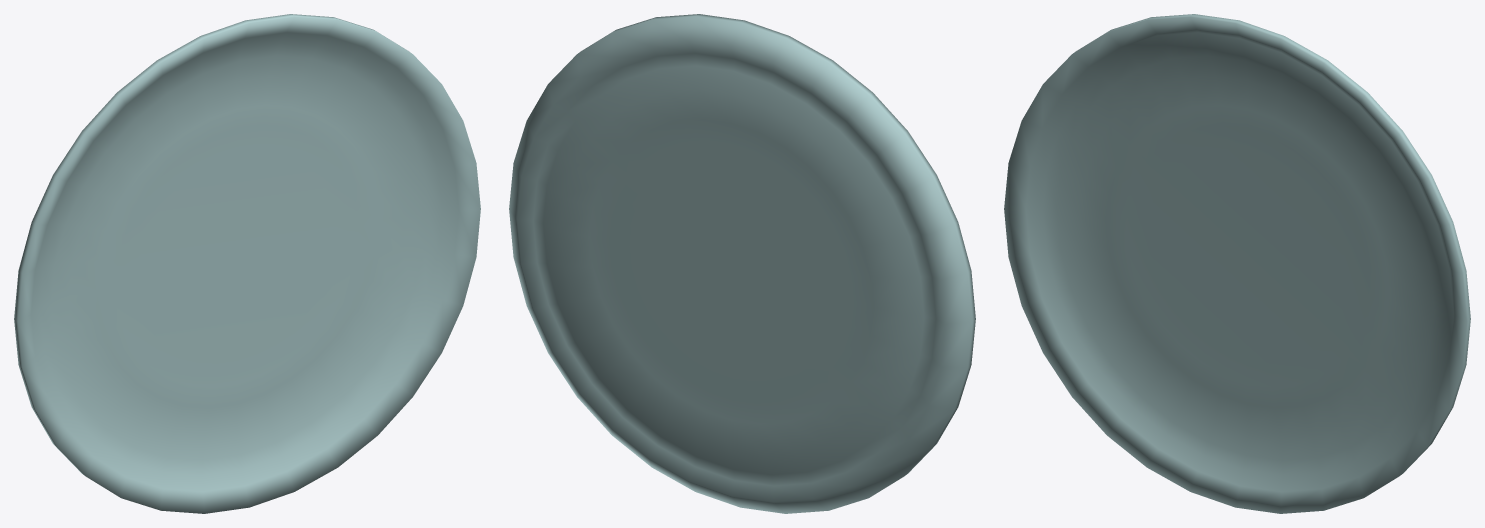
The picture shows the model from 3 angles, left to right: view 1: azimuth 30°, elevation 25°; view 2: azimuth 150°, elevation 25°; view 3: azimuth 330°, elevation 25°; orthographic projection.
Size of the model in its own units: 1 by 1 by 0.0518.
